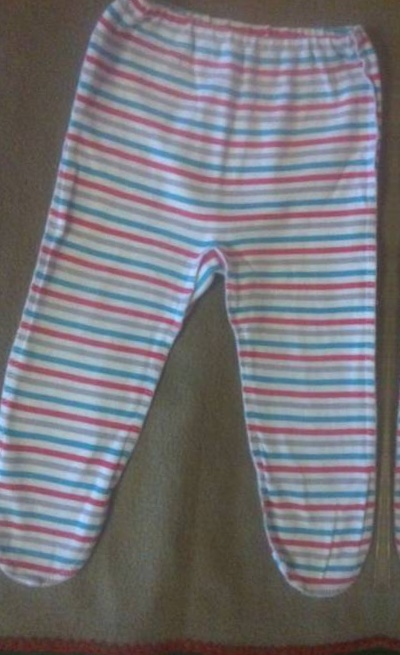Pants: (0, 5, 392, 617), (390, 18, 400, 631)
